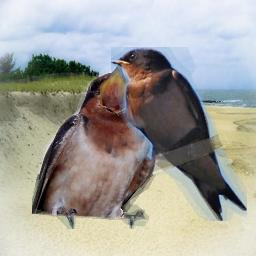Swallow: (111, 47, 247, 221), (32, 62, 158, 229)
